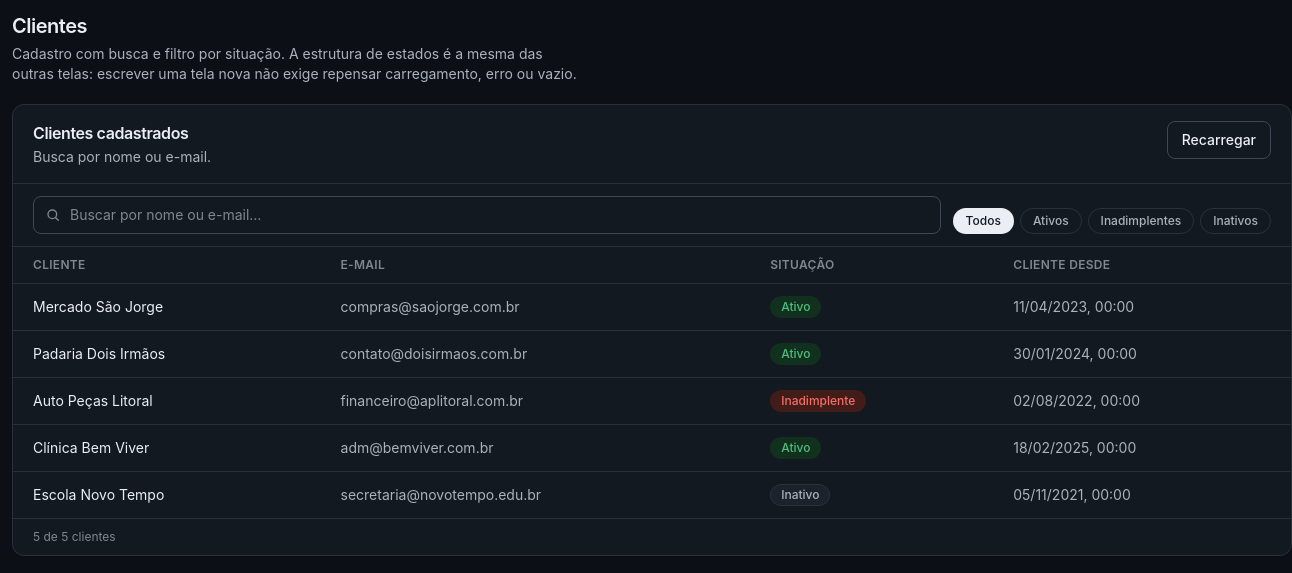
tela de clientes › filtra por situação
Expected: the text "Mercado São Jorge" is shown, left=13, top=284, right=320, bottom=330
Click the button "Inadimplentes". click: (1141, 221)
box: left=1088, top=208, right=1194, bottom=234
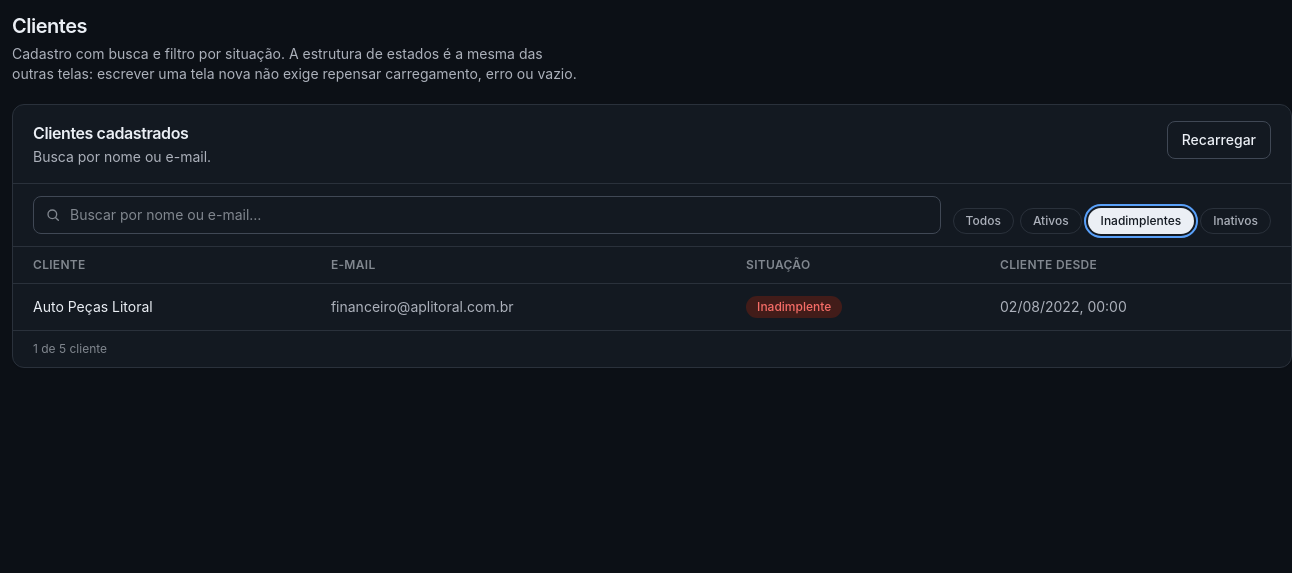
Expected: the text "Auto Peças Litoral" is shown, left=13, top=284, right=311, bottom=330
Now the text "Mercado São Jorge" is gone
